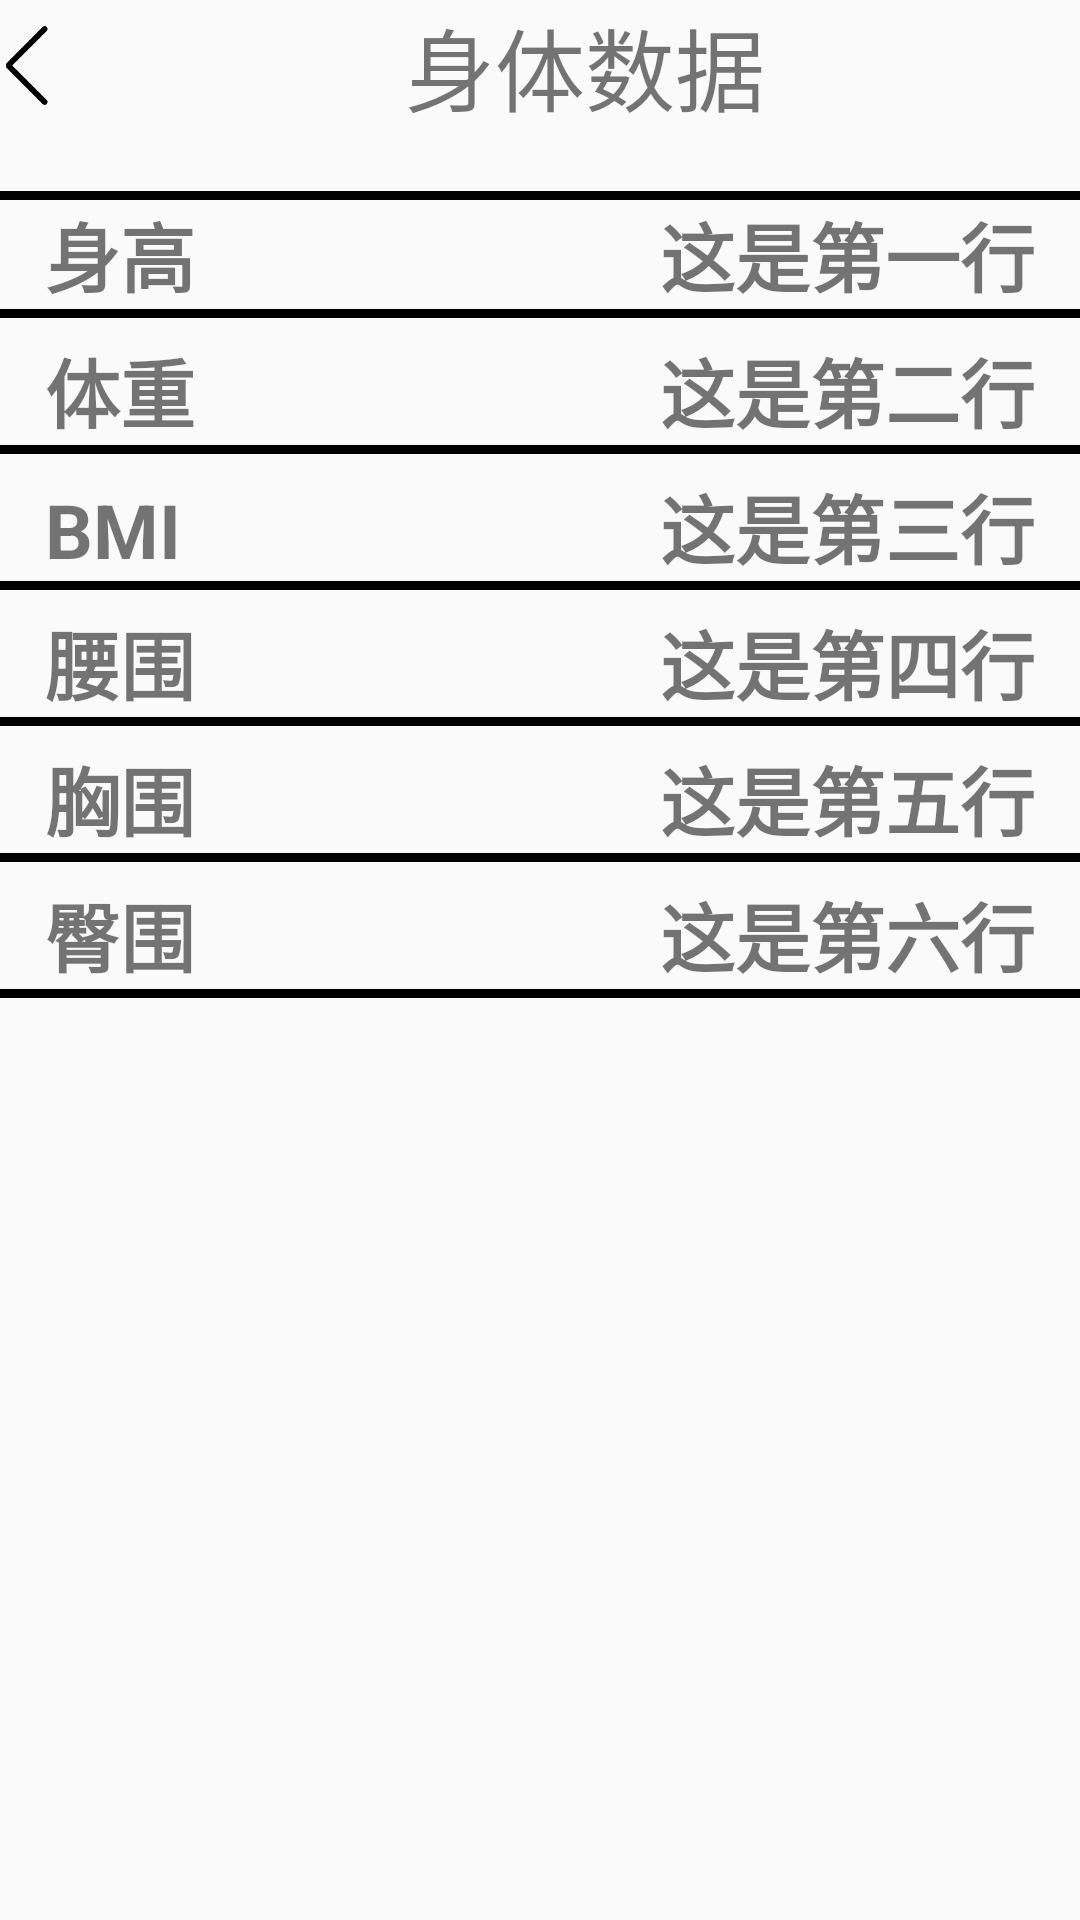

Named icons in this screenshot (1080w x 1920h) and their centers, point (x, y):
back: point (27, 65)
